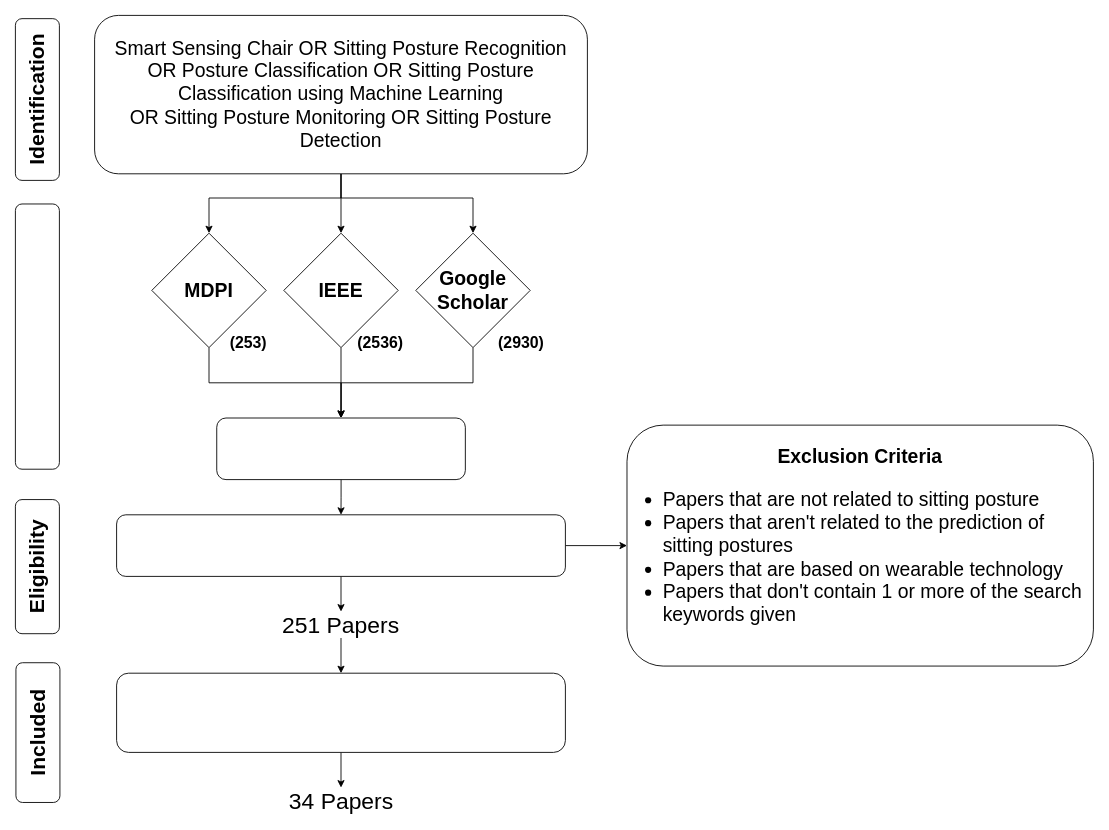
This 1109x830 diagram has some shape labels left out. The shapes that lost their labels are listed below. From the top down, each one's centre as x and y in pixels, then its label:
[37,336]: Screening
[340,448]: Exclude duplicated papers
[340,545]: Initial research eligibility screening
[340,712]: Selection after in-depth reading
